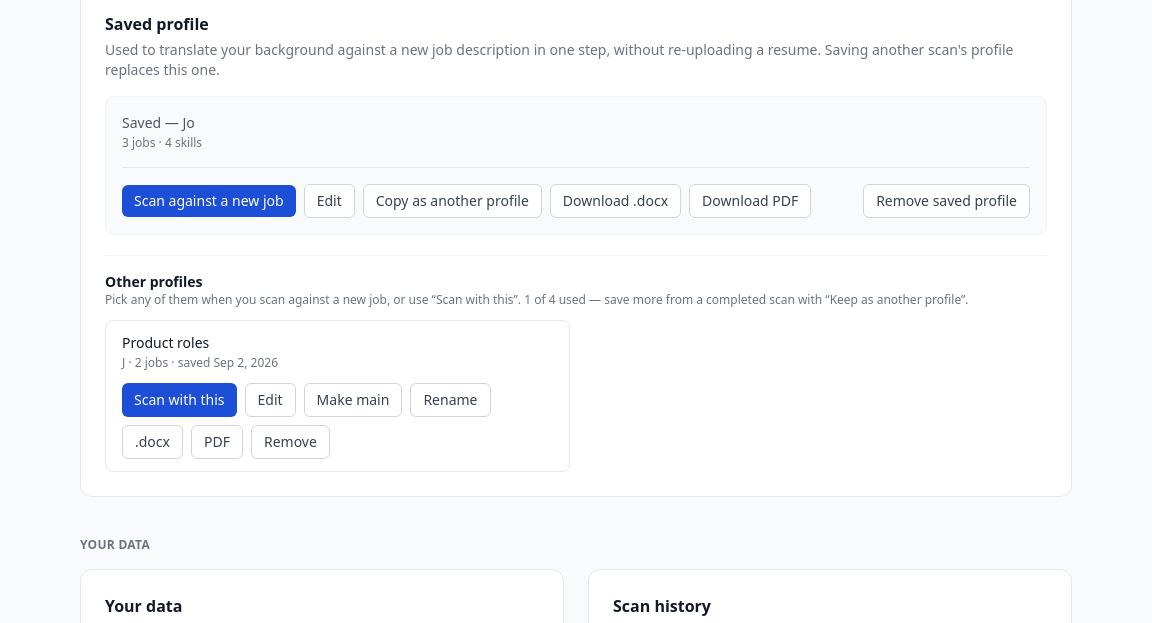
Test case: Settings — additional profile actions › a failed swap says so and keeps the page
(page scrolled)
Expected: the text "Product roles" is shown, [122, 333, 209, 352]
Click the button "Make main" at (353, 400), box [304, 383, 402, 417]
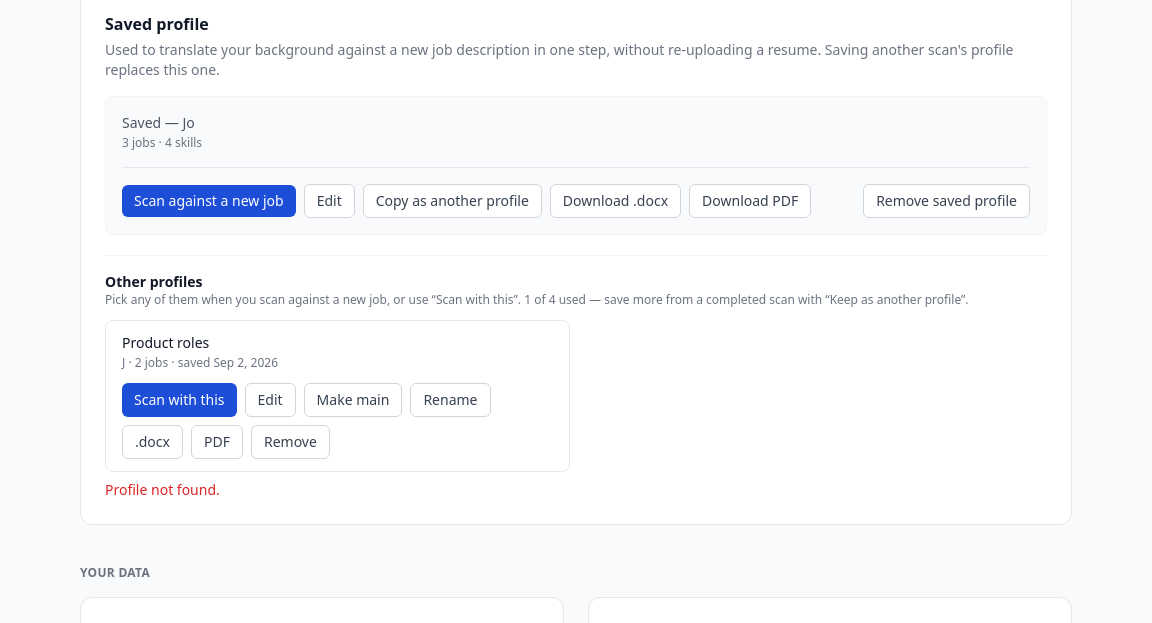
Result: the text "Profile not found." is shown at [105, 480, 220, 499]
